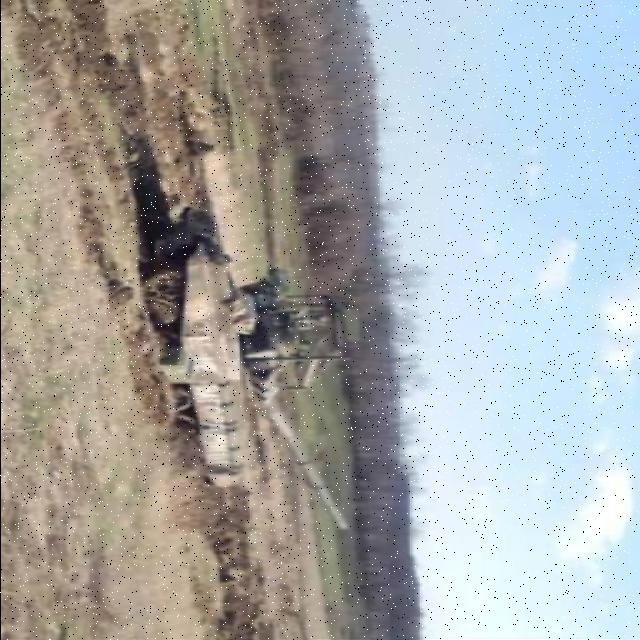TANK: (114, 202, 358, 534)
